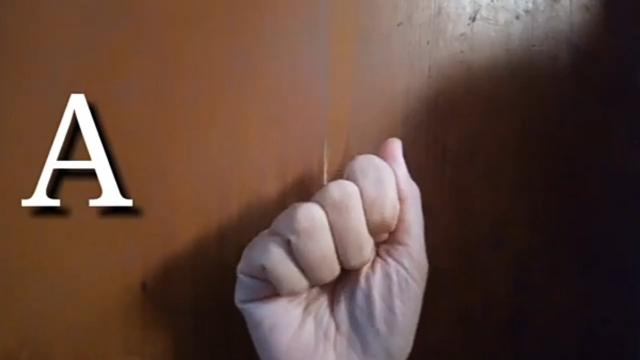A: (225, 130, 442, 360)
